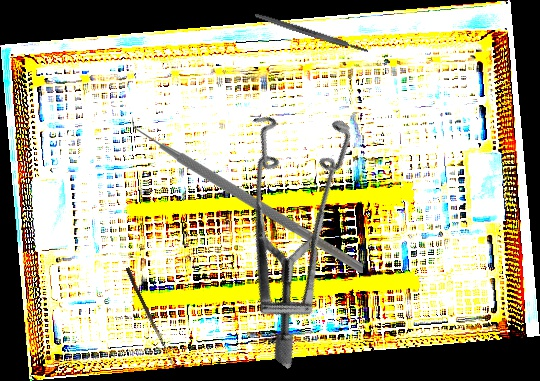Chopper: (132, 103, 363, 273)
Hook Surgical: (123, 267, 180, 369)
Scalpel Handle: (254, 11, 369, 55)
Speculum: (145, 77, 430, 370)
